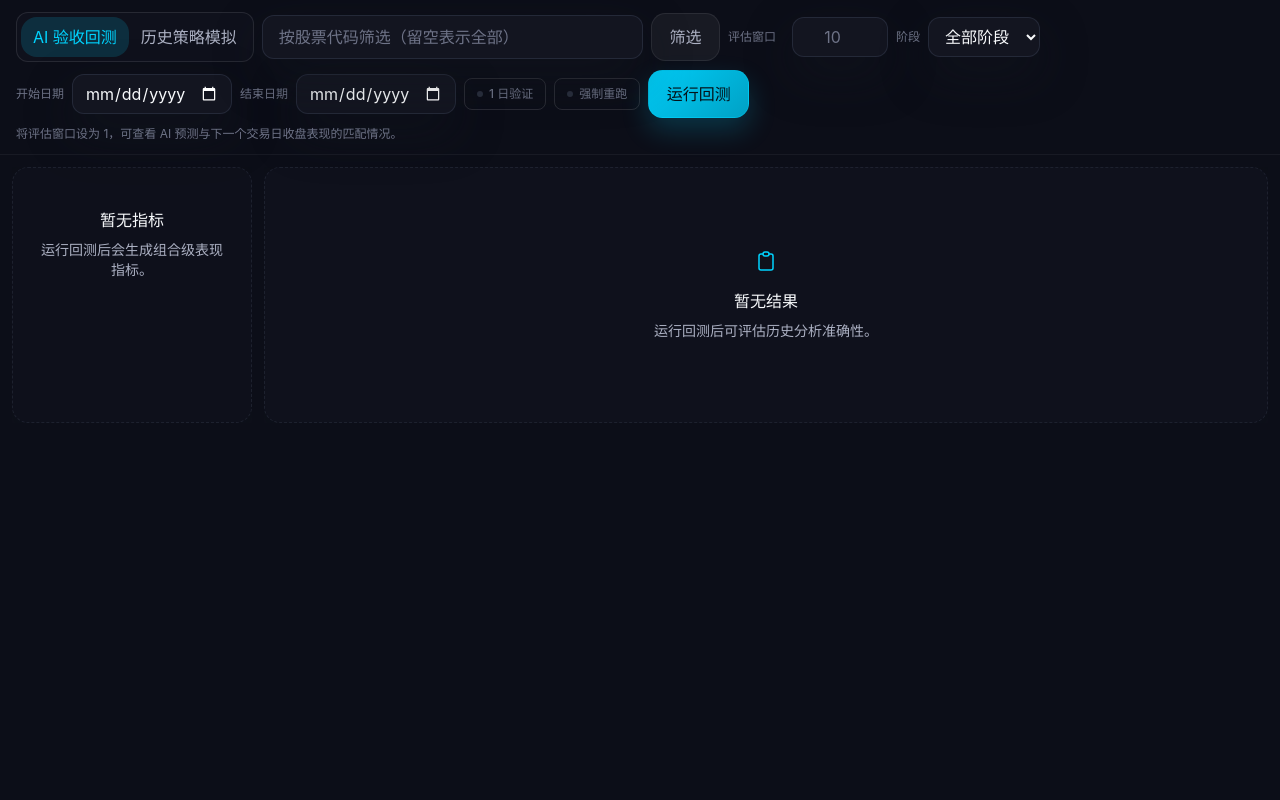
BacktestPage › explains when a backtest run finished with only insufficient samples
Check: the field with placeholder "按股票代码筛选（留空表示全部）" is shown, box [262, 15, 643, 59]
Click the button "运行回测": [699, 94] box [648, 70, 749, 118]
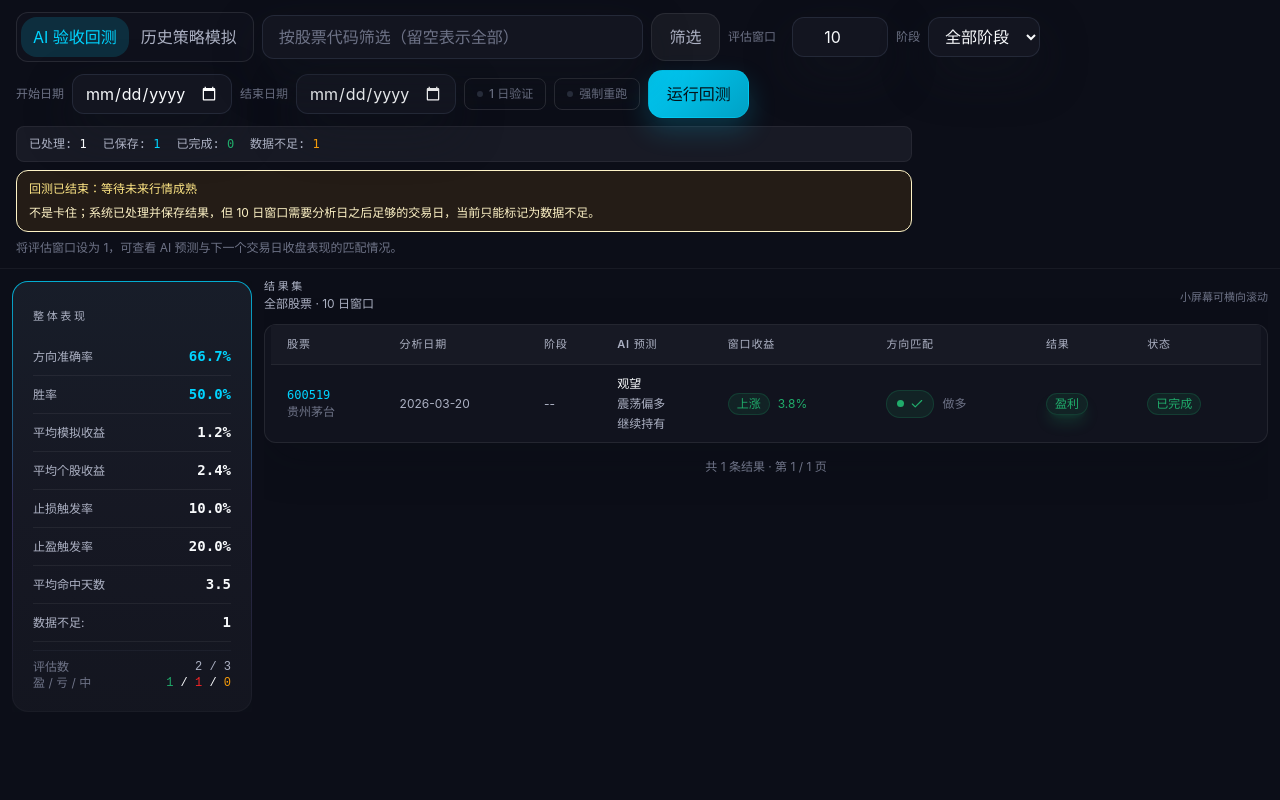
Check: the text "回测已结束：等待未来行情成熟" is shown, box [29, 181, 197, 196]
Check: the text "不是卡住；系统已处理并保存结果，但 10 日窗口需要分析日之后足够的交易日，当前只能标记为数据不足。" is shown, box [29, 205, 600, 220]
